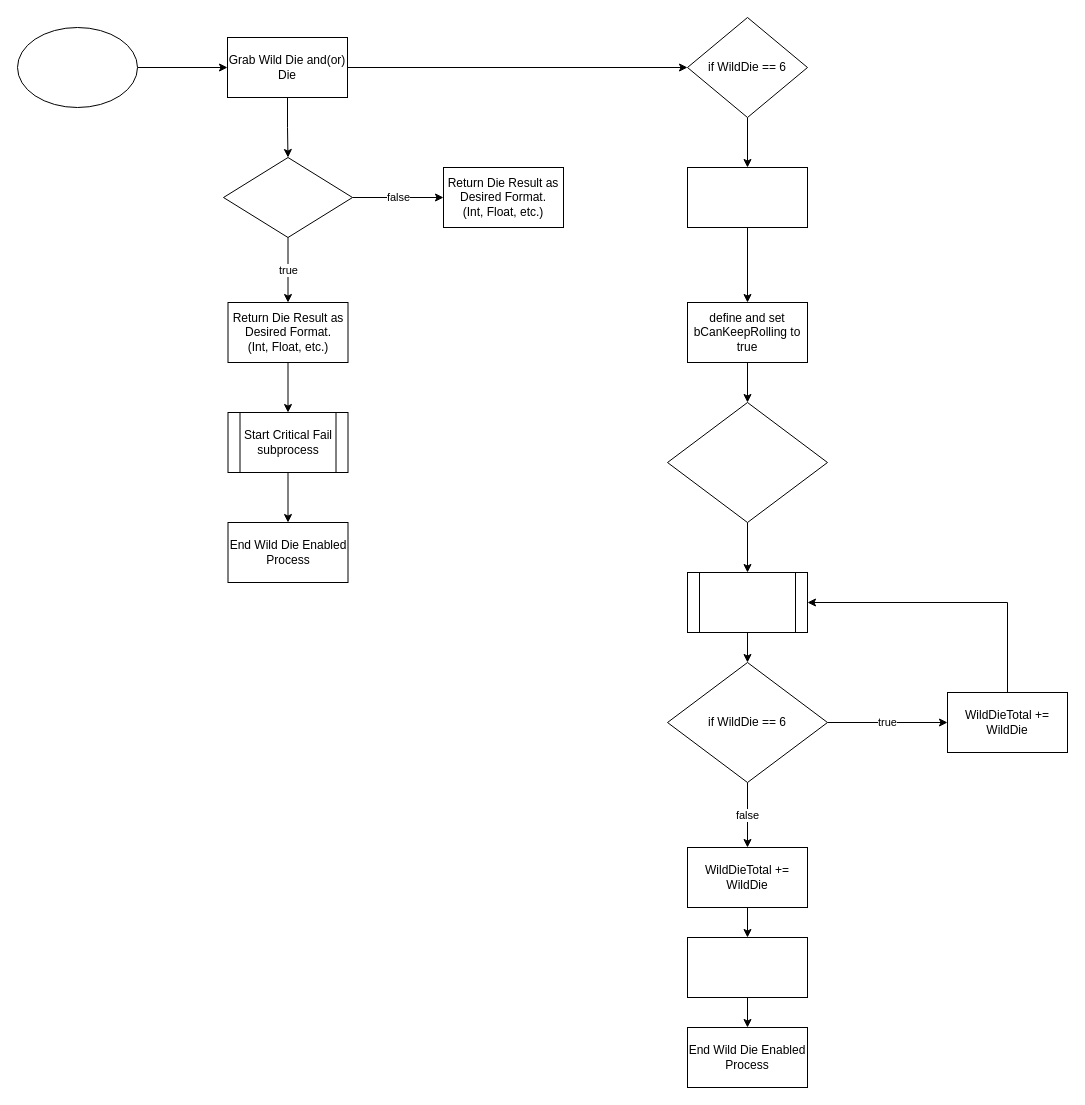
Image size: 1085x1105. Some labels were removed from this diagram. The box of each missing label's shape, as (x1, y1, x2, y2) in pixels:
define and set WildDieTotal to 6: (686, 166, 808, 228)
if CanKeepRolling == True: (666, 402, 828, 522)
If WildDie == 1: (222, 156, 352, 238)
Return WildDieTotal Result as Desired Format. (Int, Float, etc.): (686, 936, 808, 998)
Roll Process(WildDie): (686, 572, 808, 632)
Start Wild Die Enabled Process: (16, 26, 138, 108)
